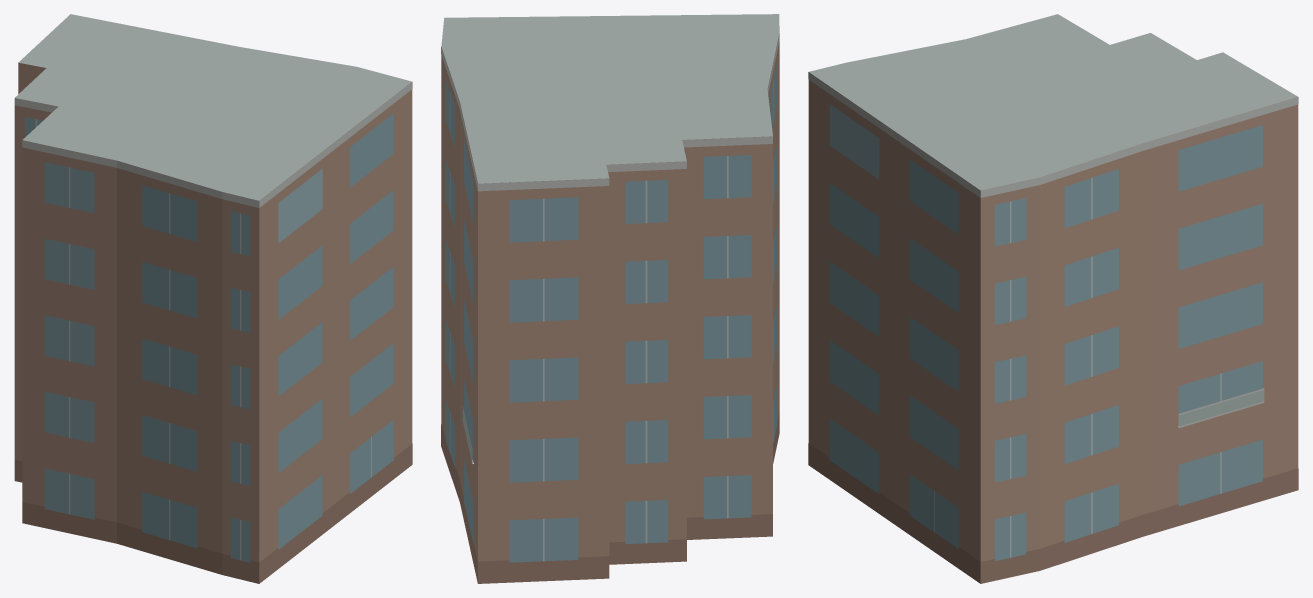
Rendered from survey-upis-32652150.glb.
The picture shows the model from 3 angles, left to right: view 1: azimuth 30°, elevation 25°; view 2: azimuth 150°, elevation 25°; view 3: azimuth 270°, elevation 25°; orthographic projection. The views are drawn at different scales.
Parts seen in each view (by area): view 1: survey-upis-32652150.tmp; view 2: survey-upis-32652150.tmp; view 3: survey-upis-32652150.tmp.
Boxes of the visible parts, x1,y1,x2,y2 form: survey-upis-32652150.tmp: (14,14,412,583); survey-upis-32652150.tmp: (441,14,779,583); survey-upis-32652150.tmp: (808,14,1298,583).
Size of the model in its own units: 12.33 by 12.8 by 14.46.
